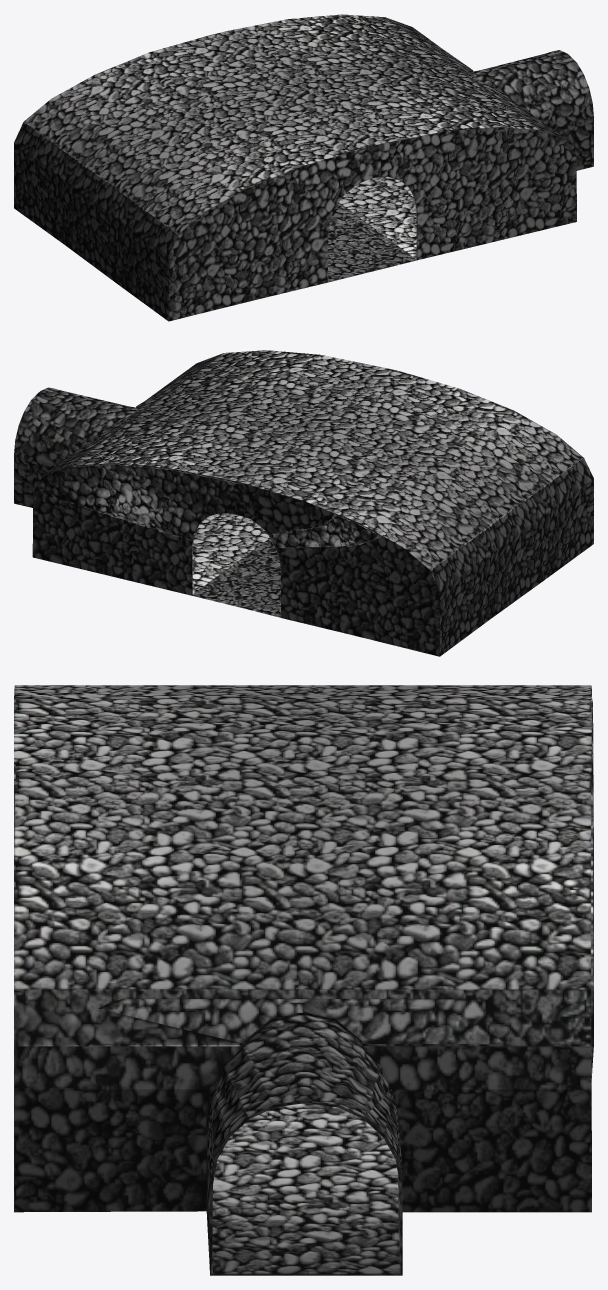
Rendered from ThreeWayRoom.fbx.
3 renders of one model, top to bottom at view 1: azimuth 30°, elevation 25°; view 2: azimuth 150°, elevation 25°; view 3: azimuth 270°, elevation 25°, orthographic. The views are drawn at different scales.
Parts seen in each view (by area): view 1: Room2; view 2: Room2; view 3: Room2.
Part boxes in pixels (box(x1,y1,x2,y2)): Room2: box(14, 14, 593, 321); Room2: box(14, 350, 593, 656); Room2: box(14, 685, 593, 1275).
Bounding box in the file's own units: 1071 × 271 × 602.
